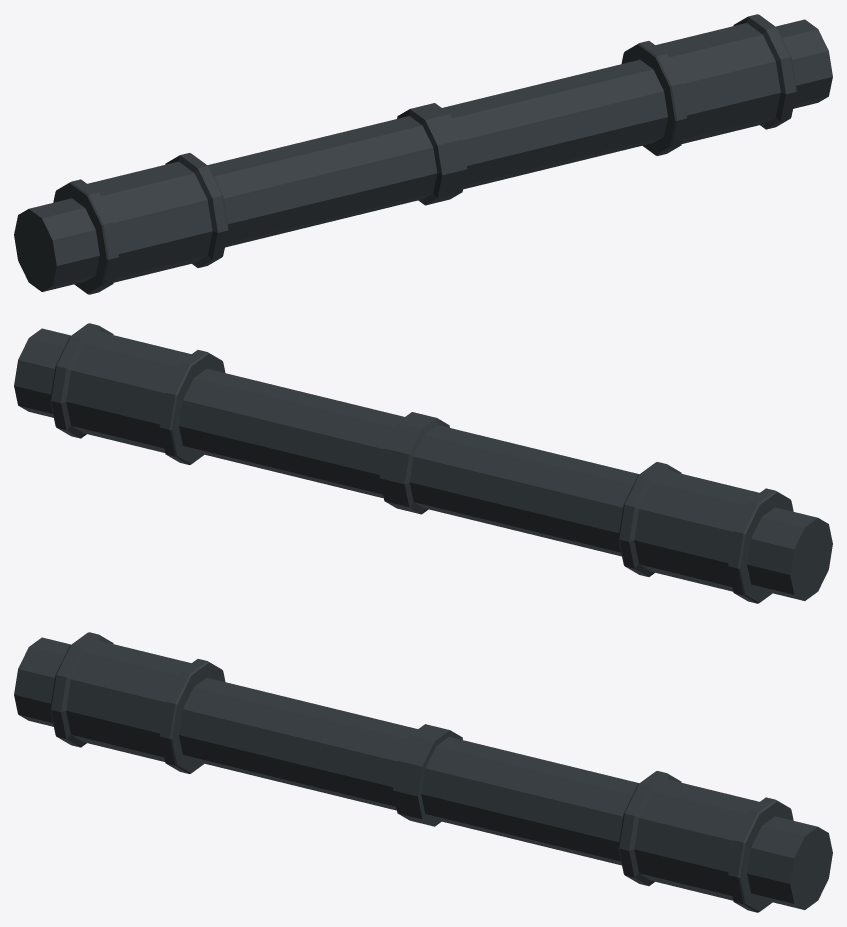
Rendered from MCastle_PortculisMech_Roll_02.FBX.
3 renders of one model, top to bottom at view 1: azimuth 30°, elevation 25°; view 2: azimuth 150°, elevation 25°; view 3: azimuth 330°, elevation 25°, orthographic.
Visible parts, largest first — view 1: MCastle_PortculisMech_Roll_02_LOD0; view 2: MCastle_PortculisMech_Roll_02_LOD0; view 3: MCastle_PortculisMech_Roll_02_LOD0.
Part boxes in pixels (box(x1,y1,x2,y2)): MCastle_PortculisMech_Roll_02_LOD0: box(14, 14, 832, 294); MCastle_PortculisMech_Roll_02_LOD0: box(14, 323, 832, 603); MCastle_PortculisMech_Roll_02_LOD0: box(14, 632, 832, 912).
Size of what is drawn, in the model's own units: 4.72 by 0.5809 by 0.6108.
